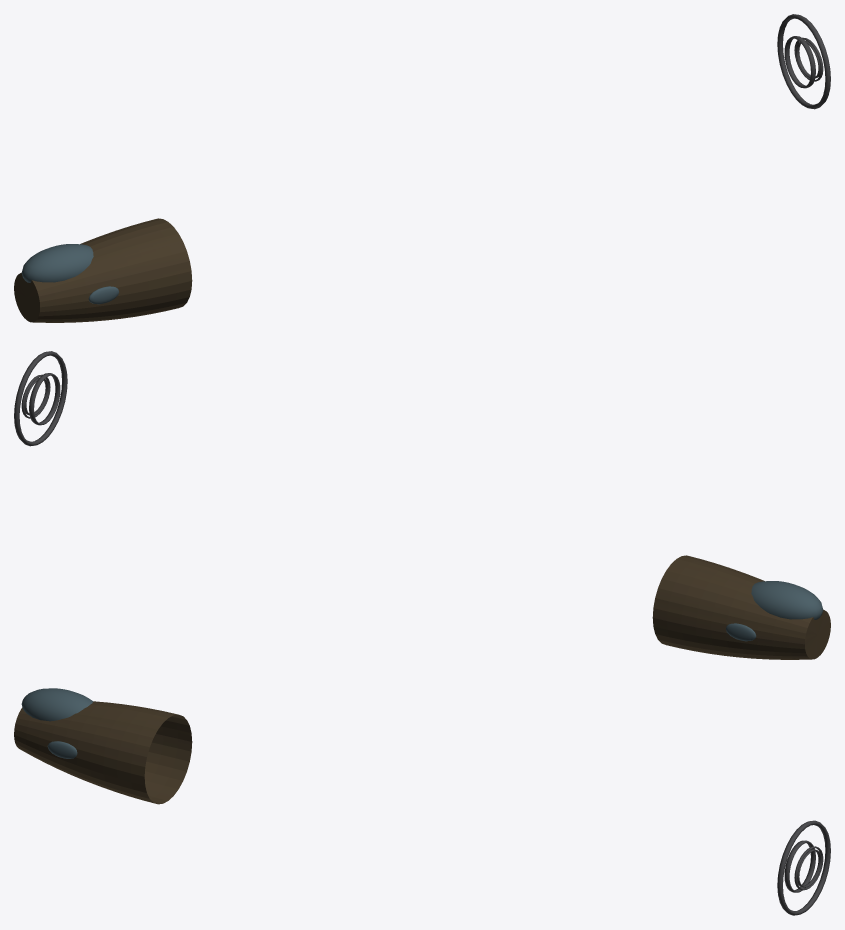
The model's file is fh_tail_bomber_2.glb.
The picture shows the model from 3 angles, top to bottom: view 1: azimuth 30°, elevation 25°; view 2: azimuth 150°, elevation 25°; view 3: azimuth 330°, elevation 25°; orthographic projection.
Visible parts, largest first — view 1: tail_cabin; view 2: tail_cabin; view 3: tail_cabin.
Boxes of the visible parts, left/top/right/bottom form: tail_cabin: left=14, top=14, right=830, bottom=322; tail_cabin: left=14, top=351, right=830, bottom=659; tail_cabin: left=14, top=688, right=830, bottom=915.
Size of the model in its own units: 0.4621 by 0.074 by 0.0513.
